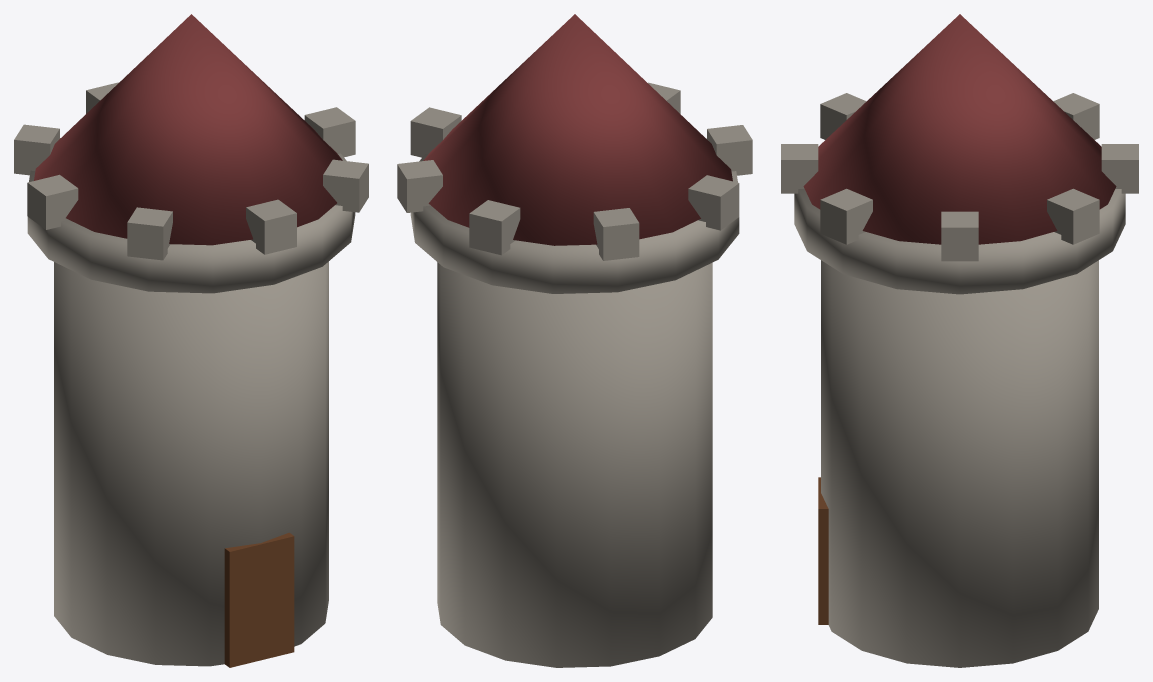
Rendered from castle_tower.glb.
3 renders of one model, left to right at view 1: azimuth 30°, elevation 25°; view 2: azimuth 150°, elevation 25°; view 3: azimuth 270°, elevation 25°, orthographic.
Visible parts, largest first — view 1: tower; view 2: tower; view 3: tower.
Boxes of the visible parts, x1,y1,x2,y2 form: tower: (14,14,368,667); tower: (397,14,752,667); tower: (781,14,1138,667).
Bounding box in the file's own units: 6.7 × 12.3 × 6.7.
